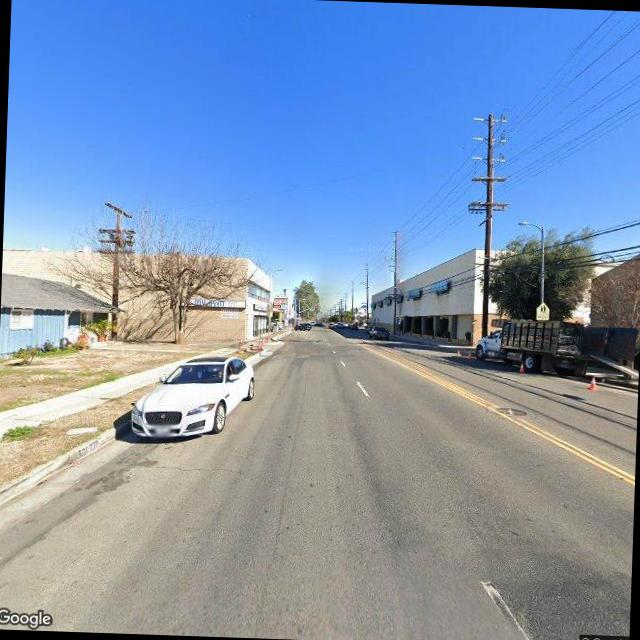crack: (103, 450, 254, 476)
